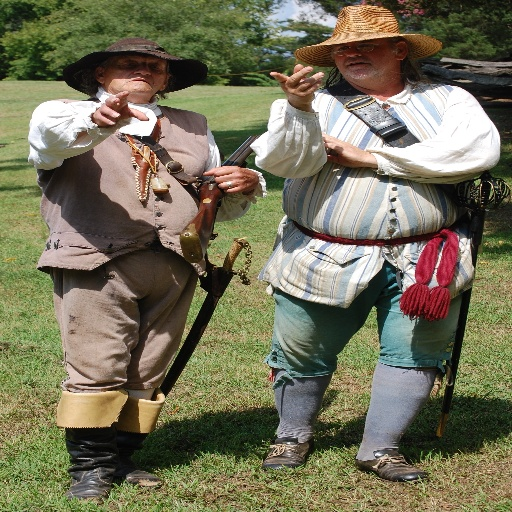hand: (267, 63, 329, 108), (86, 87, 151, 128), (318, 128, 373, 171), (202, 164, 261, 197)
